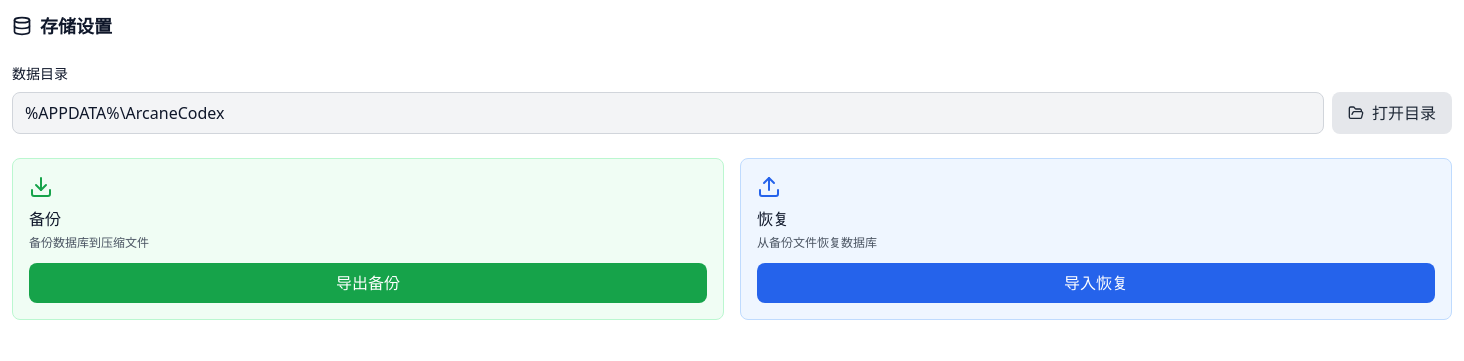
Test: StorageConfig › 恢复成功后应显示成功消息
This screenshot has width=1464, height=361.
Click the button "导入恢复": (1096, 283) top-left (757, 263), bottom-right (1435, 303)
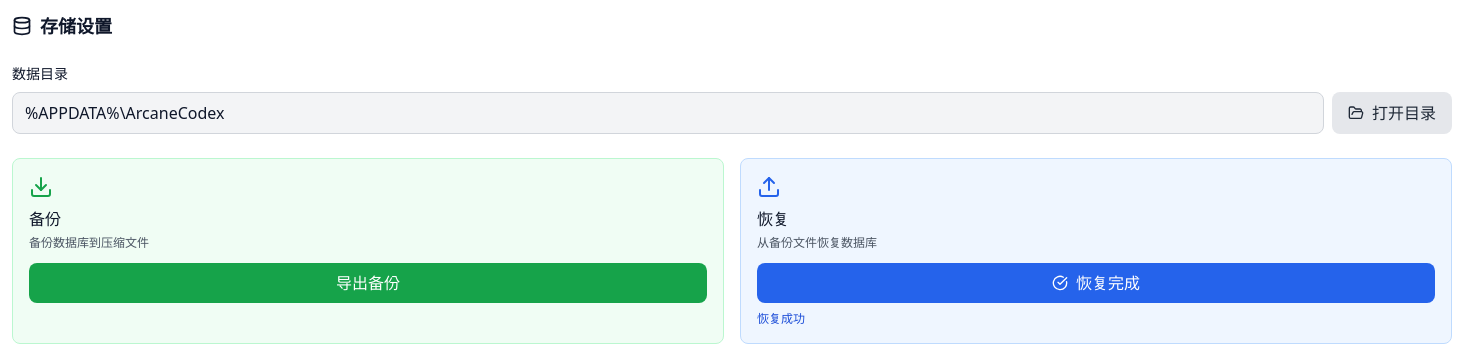
Expected: the text "恢复成功" is shown, top-left (757, 310), bottom-right (805, 327)
